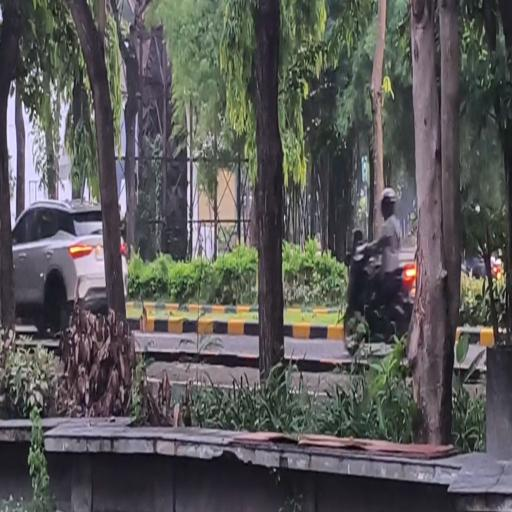Helmet: (380, 187, 396, 204)
Motor: (344, 234, 415, 343)
